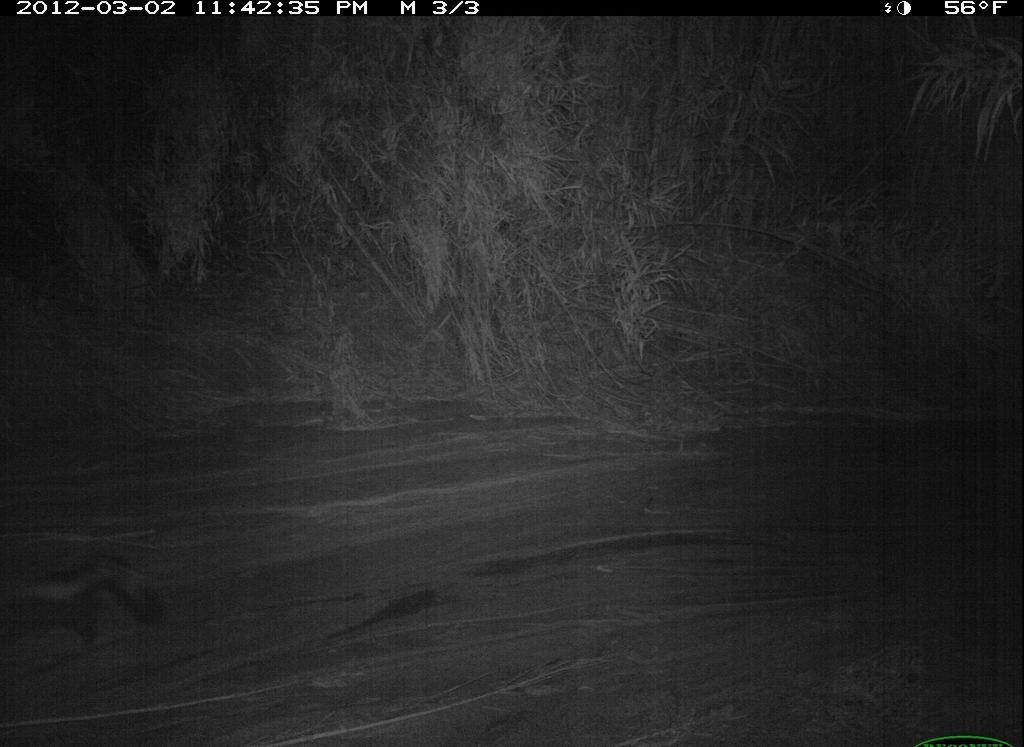skunk: (2, 538, 182, 666)
